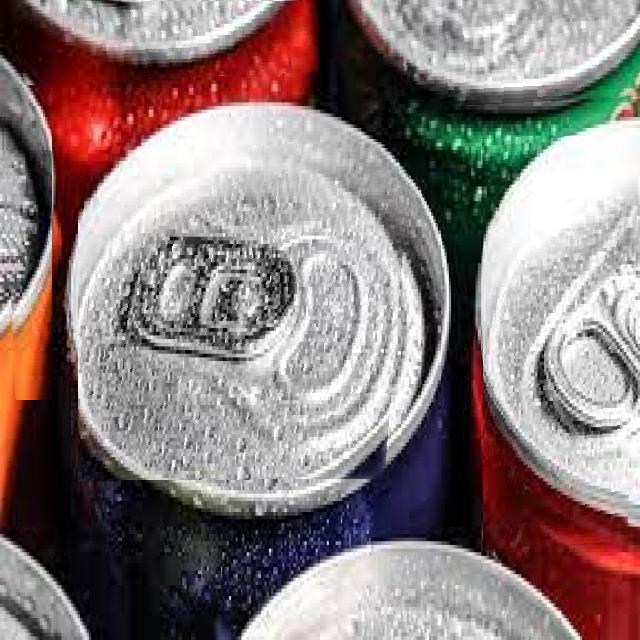Cans: (78, 142, 412, 481), (483, 136, 640, 551), (355, 0, 640, 111), (16, 1, 319, 85), (0, 49, 52, 400)
